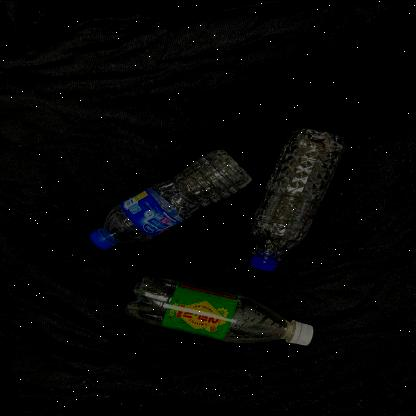Plastic Bottle: (88, 148, 252, 250), (248, 127, 346, 271), (124, 274, 314, 346)
